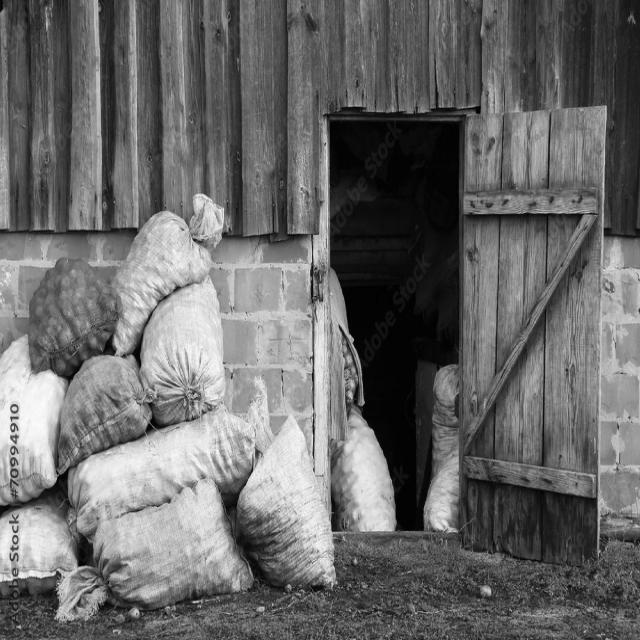sack: (55, 478, 253, 621), (66, 406, 255, 540), (234, 377, 336, 589), (110, 192, 224, 353), (139, 273, 225, 425), (27, 257, 123, 380), (56, 354, 152, 474), (1, 336, 66, 506), (330, 404, 397, 533), (1, 496, 76, 591), (422, 364, 460, 531)
